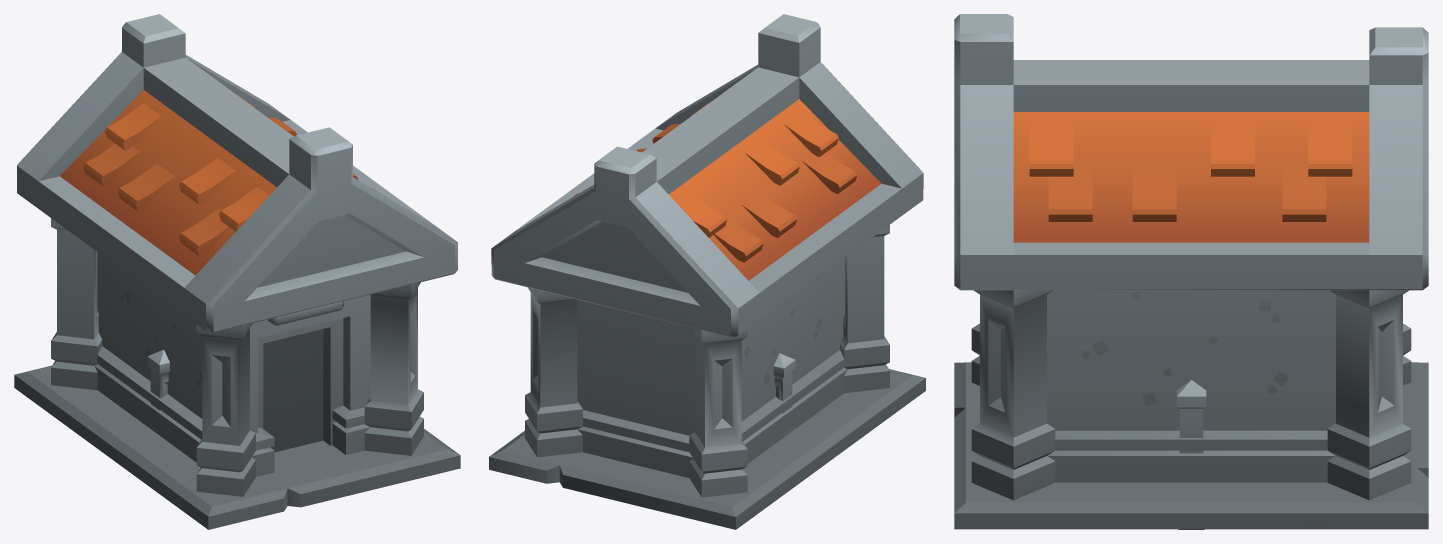
Rendered from halloween.glb.
The picture shows the model from 3 angles, left to right: view 1: azimuth 30°, elevation 25°; view 2: azimuth 150°, elevation 25°; view 3: azimuth 270°, elevation 25°; orthographic projection. The views are drawn at different scales.
Visible parts, largest first — view 1: crypt, fence_broken; view 2: crypt, fence_broken; view 3: crypt, fence_broken.
Boxes of the visible parts, <box> form: crypt: <box>14,14,460,529</box>; fence_broken: <box>147,349,169,435</box>; crypt: <box>489,14,925,529</box>; fence_broken: <box>773,353,795,436</box>; crypt: <box>954,14,1428,529</box>; fence_broken: <box>1176,380,1206,453</box>.
Size of the model in its own units: 6 by 9.31 by 8.
1 material, 1 textured.
